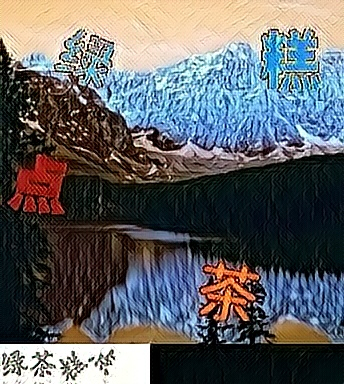B2E8: (198, 258, 259, 323)
B5E3: (7, 151, 68, 216)
B8E2: (258, 27, 319, 92)
C2CC: (54, 27, 115, 92)
